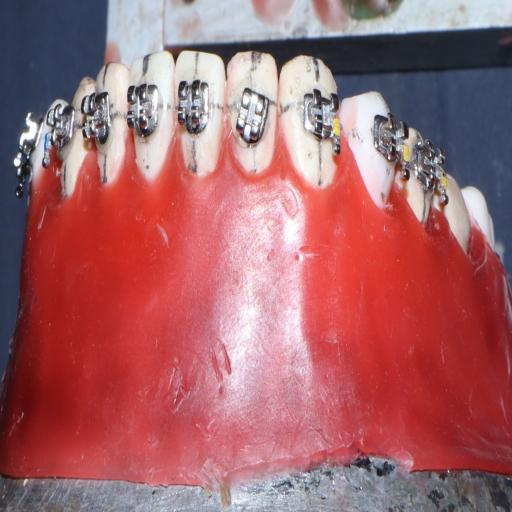correct_brace: (175, 73, 212, 137)
incorrect_brace: (226, 47, 279, 186), (297, 82, 344, 154), (232, 86, 272, 148)
